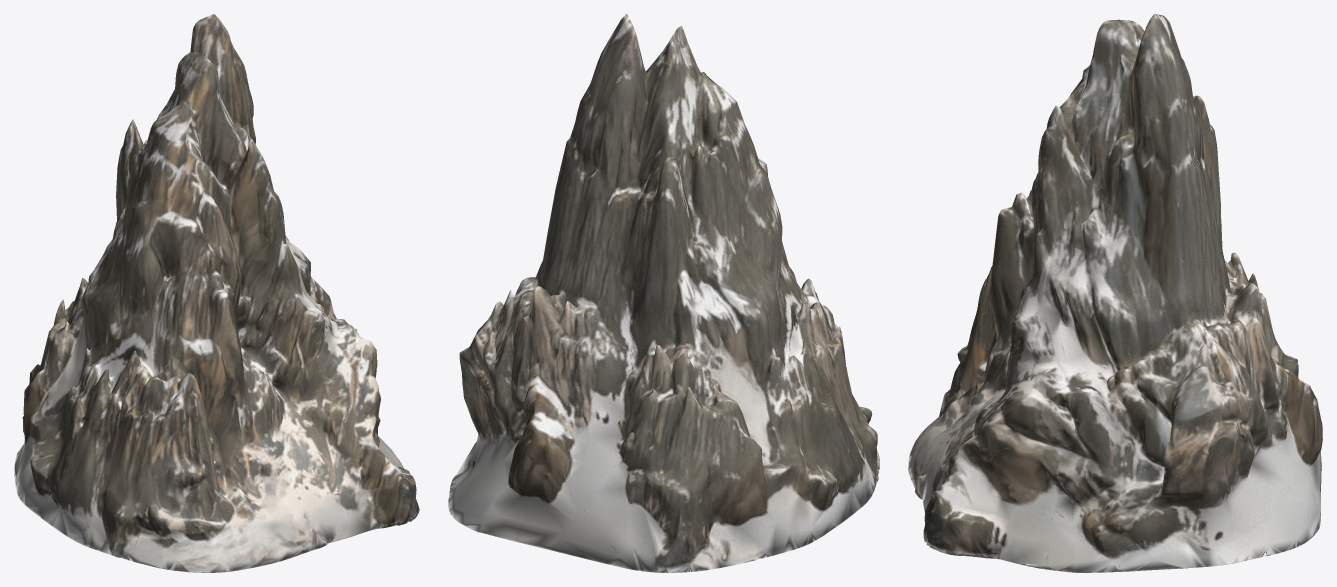
The model's file is ice_peak.glb.
The picture shows the model from 3 angles, left to right: view 1: azimuth 30°, elevation 25°; view 2: azimuth 150°, elevation 25°; view 3: azimuth 270°, elevation 25°; orthographic projection. The views are drawn at different scales.
Visible parts, largest first — view 1: ice_peak; view 2: ice_peak; view 3: ice_peak.
Boxes of the visible parts, left/top/right/bottom form: ice_peak: left=14, top=14, right=419, bottom=572; ice_peak: left=448, top=14, right=879, bottom=572; ice_peak: left=908, top=14, right=1322, bottom=572.
Size of the model in its own units: 147 by 190 by 148.
Materials: 1 (1 with a texture image).
